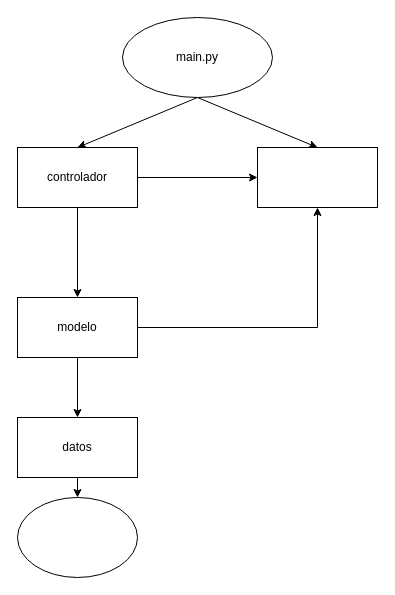
The diagram is 395 pixels wide and 595 high, and some of its shapes have lost their labels. The centre of each missing label's shape, as x and y in pixels:
fin: the point at 77,537
vista: the point at 317,177
